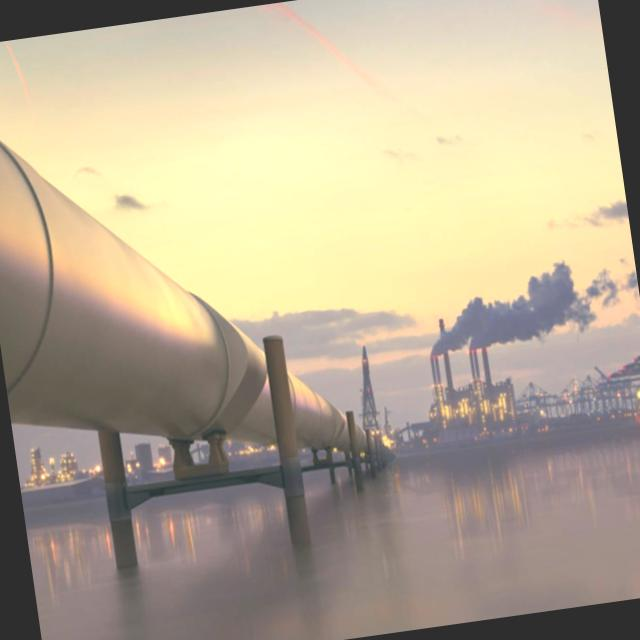gas: (0, 144, 377, 456)
